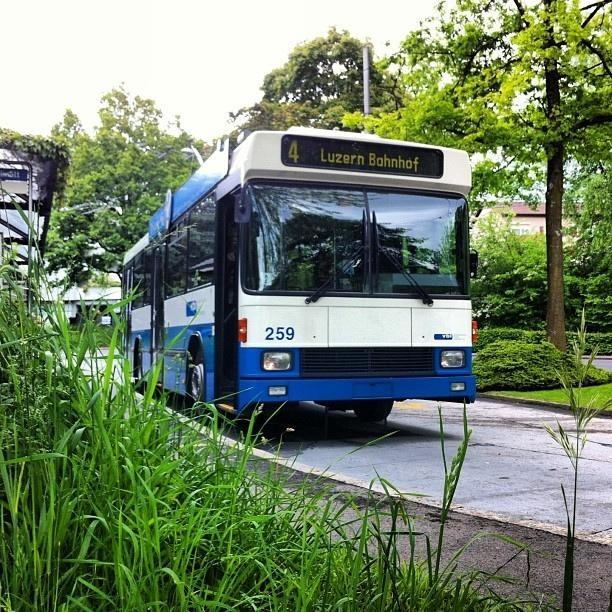bus: (123, 128, 478, 424)
